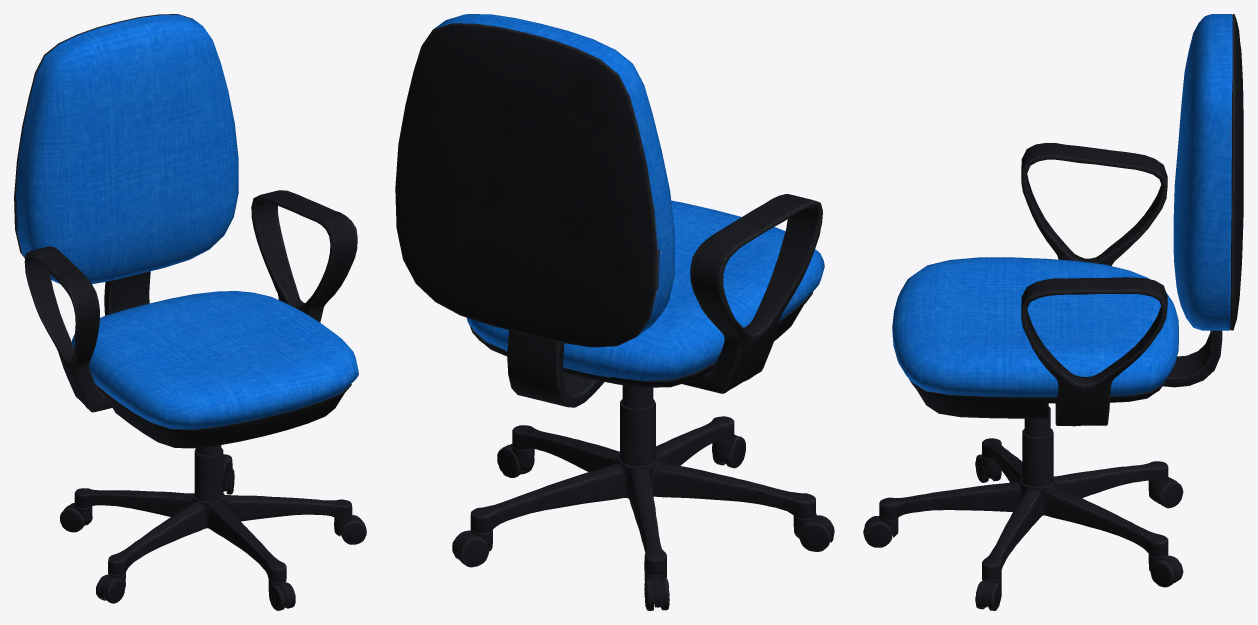
The model's file is chair-transformed.glb.
3 renders of one model, left to right at view 1: azimuth 30°, elevation 25°; view 2: azimuth 150°, elevation 25°; view 3: azimuth 270°, elevation 25°, orthographic. The views are drawn at different scales.
Parts seen in each view (by area): view 1: defaultMaterial; view 2: defaultMaterial; view 3: defaultMaterial.
Boxes of the visible parts, x1,y1,x2,y2 form: defaultMaterial: (14, 14, 366, 610); defaultMaterial: (395, 14, 834, 610); defaultMaterial: (863, 14, 1243, 610).
Size of the model in its own units: 0.6787 by 1.06 by 0.7223.
Materials: 1 (1 with a texture image).
